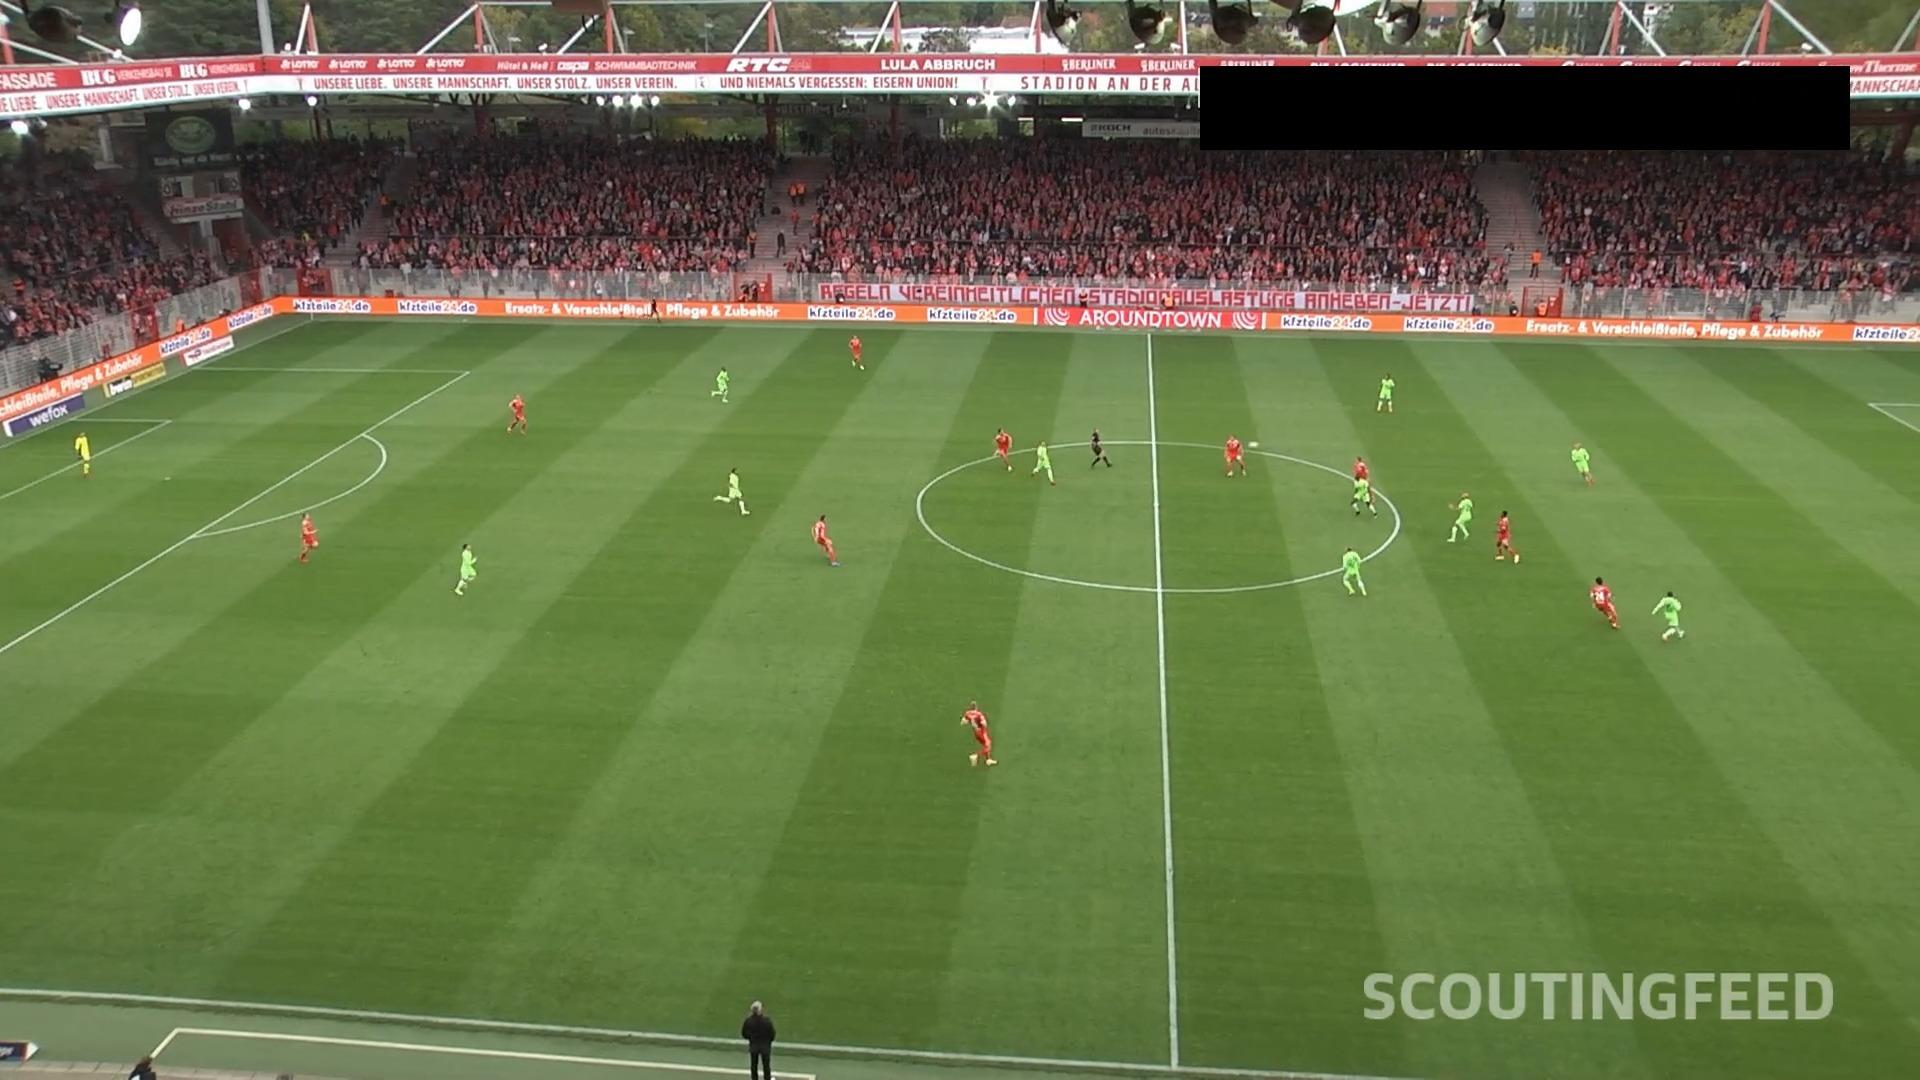ball: (1247, 440, 1261, 448)
